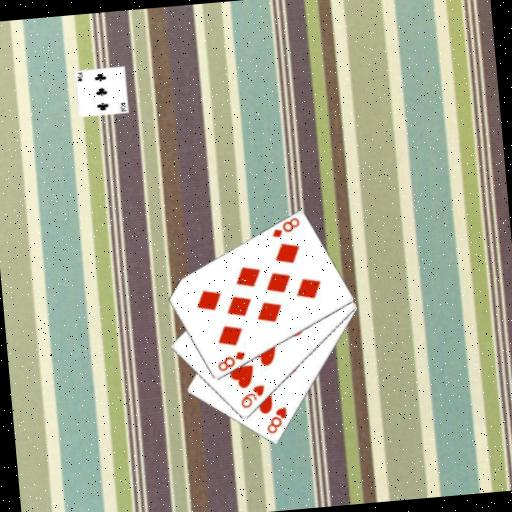8D: (214, 348, 248, 374), (268, 214, 302, 240)
8H: (262, 404, 290, 437)
9H: (237, 382, 268, 411)
